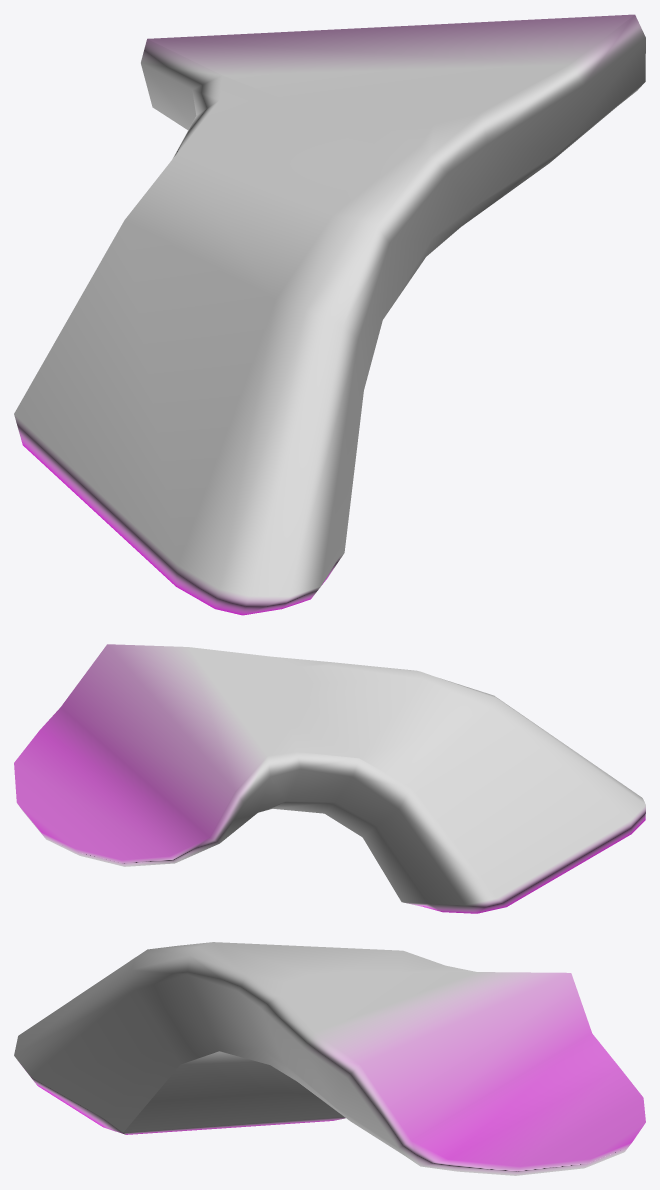
File: Car_MercedesBenz_AMGGT_2015_MirrorBaseL_SetGTR.fbx
3 renders of one model, top to bottom at view 1: azimuth 30°, elevation 25°; view 2: azimuth 150°, elevation 25°; view 3: azimuth 270°, elevation 25°, orthographic. The views are drawn at different scales.
Parts seen in each view (by area): view 1: MirrorBaseL 6; view 2: MirrorBaseL 6; view 3: MirrorBaseL 6.
Part boxes in pixels (x1,y1,x2,y2): MirrorBaseL 6: (14,14,645,615); MirrorBaseL 6: (14,644,645,913); MirrorBaseL 6: (14,942,645,1175).
Size of the model in its own units: 0.1347 by 0.0606 by 0.1439.
